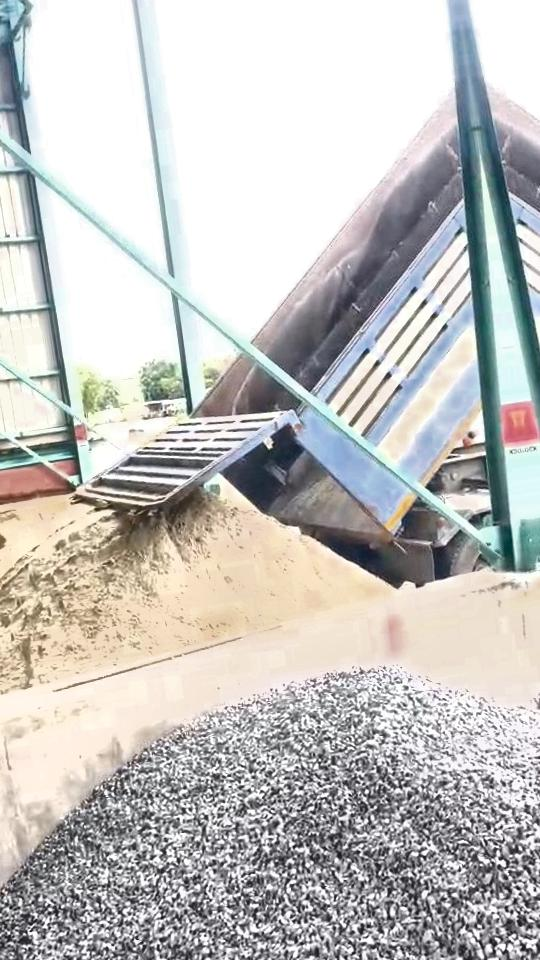gravel: (0, 667, 540, 960)
sand: (0, 495, 388, 700), (0, 508, 52, 561)
